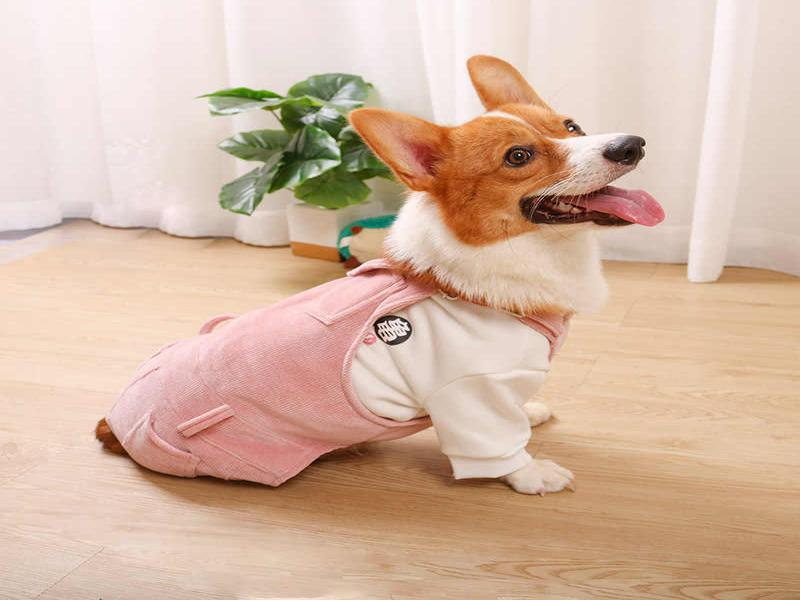corgi: (349, 56, 686, 251)
